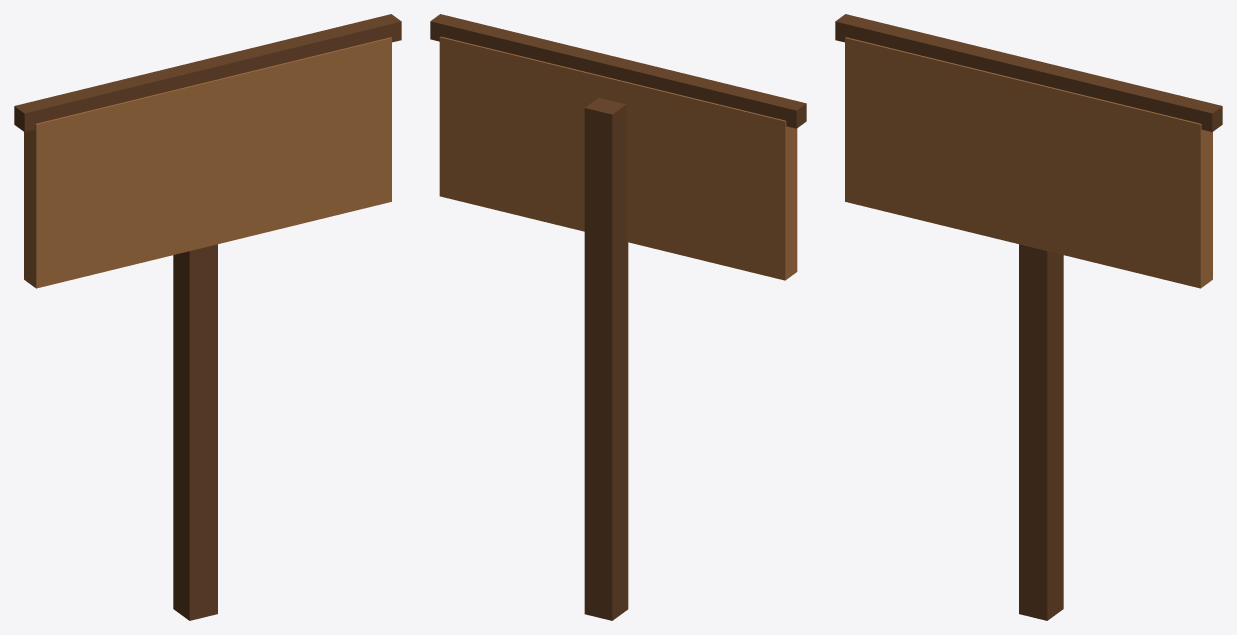
Rendered from mdl_cartel_zona.fbx.
3 renders of one model, left to right at view 1: azimuth 30°, elevation 25°; view 2: azimuth 150°, elevation 25°; view 3: azimuth 330°, elevation 25°, orthographic. The views are drawn at different scales.
Parts seen in each view (by area): view 1: mdl_cartel_zona; view 2: mdl_cartel_zona; view 3: mdl_cartel_zona.
Boxes of the visible parts, x1,y1,x2,y2 form: mdl_cartel_zona: (14, 14, 401, 620); mdl_cartel_zona: (430, 14, 806, 620); mdl_cartel_zona: (835, 14, 1222, 620).
Size of the model in its own units: 530 by 748 by 65.
